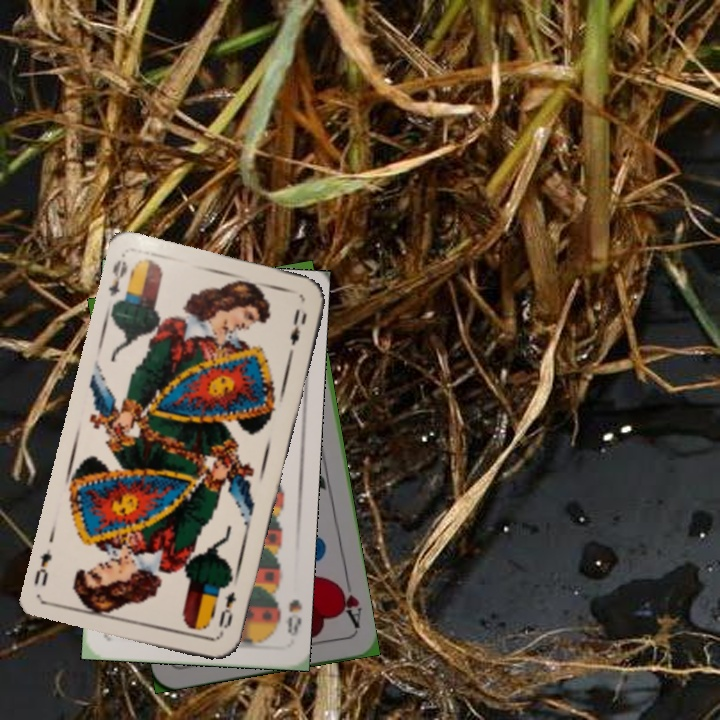EO: (104, 256, 130, 299), (214, 587, 239, 631)
HA: (332, 573, 364, 631)
S8: (282, 595, 304, 639)
